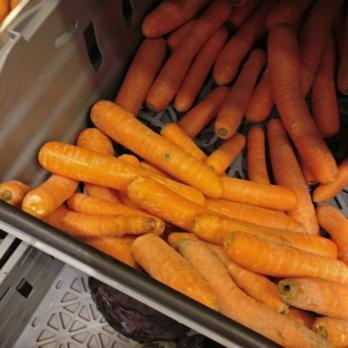Carrot: (134, 2, 348, 132), (33, 139, 339, 228), (120, 229, 348, 268), (196, 272, 348, 308), (258, 310, 348, 344)
